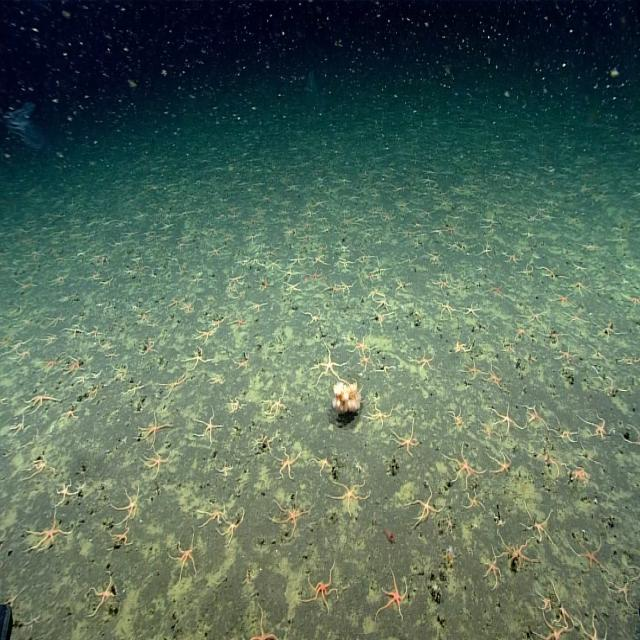brittle-stars: (302, 539, 359, 606), (534, 573, 580, 640), (242, 583, 296, 640), (30, 502, 85, 555), (407, 459, 450, 526), (328, 465, 381, 516), (169, 514, 211, 578), (376, 548, 418, 610), (308, 336, 355, 389), (273, 478, 317, 534), (513, 484, 559, 534), (88, 560, 132, 612), (564, 517, 611, 563), (443, 432, 485, 483), (575, 588, 611, 640), (495, 518, 537, 562), (194, 394, 228, 448), (478, 531, 504, 599), (135, 403, 180, 442), (111, 476, 157, 514), (278, 430, 312, 479), (196, 481, 235, 522), (390, 408, 424, 455), (111, 511, 150, 549), (488, 385, 524, 424), (362, 389, 402, 423), (222, 497, 254, 539), (142, 441, 181, 475), (408, 334, 442, 372), (574, 394, 610, 429), (263, 385, 298, 420), (59, 465, 90, 503), (602, 558, 633, 596), (24, 384, 66, 412), (38, 345, 66, 387), (180, 344, 223, 371), (160, 368, 194, 402), (615, 406, 640, 452), (586, 310, 624, 340), (8, 407, 38, 444), (29, 446, 58, 484), (486, 433, 517, 468), (6, 267, 39, 298), (480, 353, 510, 387), (219, 267, 252, 297), (140, 324, 167, 360), (298, 298, 328, 330), (523, 395, 553, 427), (453, 351, 489, 376), (562, 452, 591, 483), (128, 300, 160, 328), (0, 327, 30, 356), (349, 320, 377, 351), (464, 474, 490, 507), (365, 251, 391, 284), (256, 423, 281, 457), (444, 390, 465, 430), (228, 381, 254, 413), (520, 294, 546, 326), (228, 302, 252, 336), (13, 341, 40, 371), (12, 306, 40, 334), (64, 314, 91, 343), (319, 272, 346, 300), (67, 349, 92, 379), (549, 410, 577, 436), (245, 290, 270, 319), (191, 321, 221, 345), (614, 340, 638, 370), (315, 441, 337, 473), (433, 294, 461, 319), (390, 247, 420, 270), (362, 304, 398, 323), (560, 274, 596, 293), (531, 255, 557, 281), (231, 344, 255, 372), (548, 336, 576, 360), (375, 352, 398, 381), (332, 249, 362, 271), (555, 302, 585, 324), (444, 232, 470, 257), (448, 329, 476, 352), (572, 434, 600, 457), (86, 318, 108, 347), (0, 379, 18, 414), (216, 449, 240, 475), (529, 573, 553, 599), (48, 264, 72, 290), (616, 282, 640, 307), (476, 413, 502, 436), (489, 496, 510, 524), (205, 236, 229, 260), (512, 254, 536, 278), (63, 402, 88, 425), (510, 314, 533, 339), (284, 275, 306, 301), (482, 274, 509, 295), (472, 232, 495, 256), (129, 373, 150, 399), (358, 343, 379, 369), (374, 284, 395, 310), (277, 260, 304, 280), (38, 328, 65, 348), (202, 367, 230, 386), (390, 266, 413, 289), (430, 269, 450, 295), (447, 269, 469, 292), (113, 359, 134, 383), (459, 294, 483, 315), (45, 308, 70, 328), (251, 270, 276, 290), (308, 246, 332, 266), (301, 263, 324, 283), (499, 243, 523, 262), (339, 272, 361, 292), (99, 267, 119, 289), (182, 297, 202, 318), (90, 249, 112, 267), (79, 364, 96, 387), (90, 381, 110, 400), (108, 342, 125, 364), (287, 246, 309, 263), (189, 268, 211, 285), (428, 241, 444, 264), (624, 544, 640, 566), (518, 343, 535, 363), (100, 334, 117, 353), (170, 291, 187, 310), (268, 250, 284, 269), (472, 256, 490, 272), (92, 363, 108, 379)
